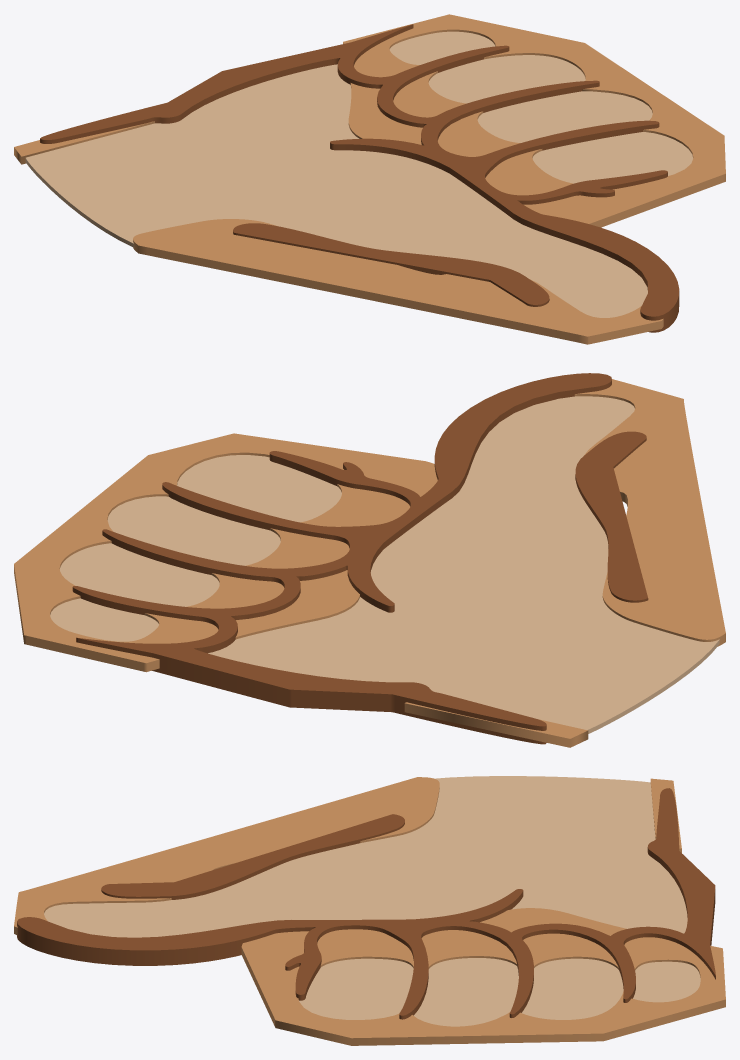
Rendered from emoji_u1f44e_1f3fc.glb.
3 views of the same model, one above another, from view 1: azimuth 30°, elevation 25°; view 2: azimuth 150°, elevation 25°; view 3: azimuth 270°, elevation 25° (orthographic). The views are drawn at different scales.
Visible parts, largest first — view 1: emoji_u1f44e_1f3fc; view 2: emoji_u1f44e_1f3fc; view 3: emoji_u1f44e_1f3fc.
Boxes of the visible parts, <box> form: emoji_u1f44e_1f3fc: <box>14,14,725,344</box>; emoji_u1f44e_1f3fc: <box>14,373,725,747</box>; emoji_u1f44e_1f3fc: <box>14,776,725,1045</box>.
Size of the model in its own units: 0.0292 by 0.0008 by 0.0332.
